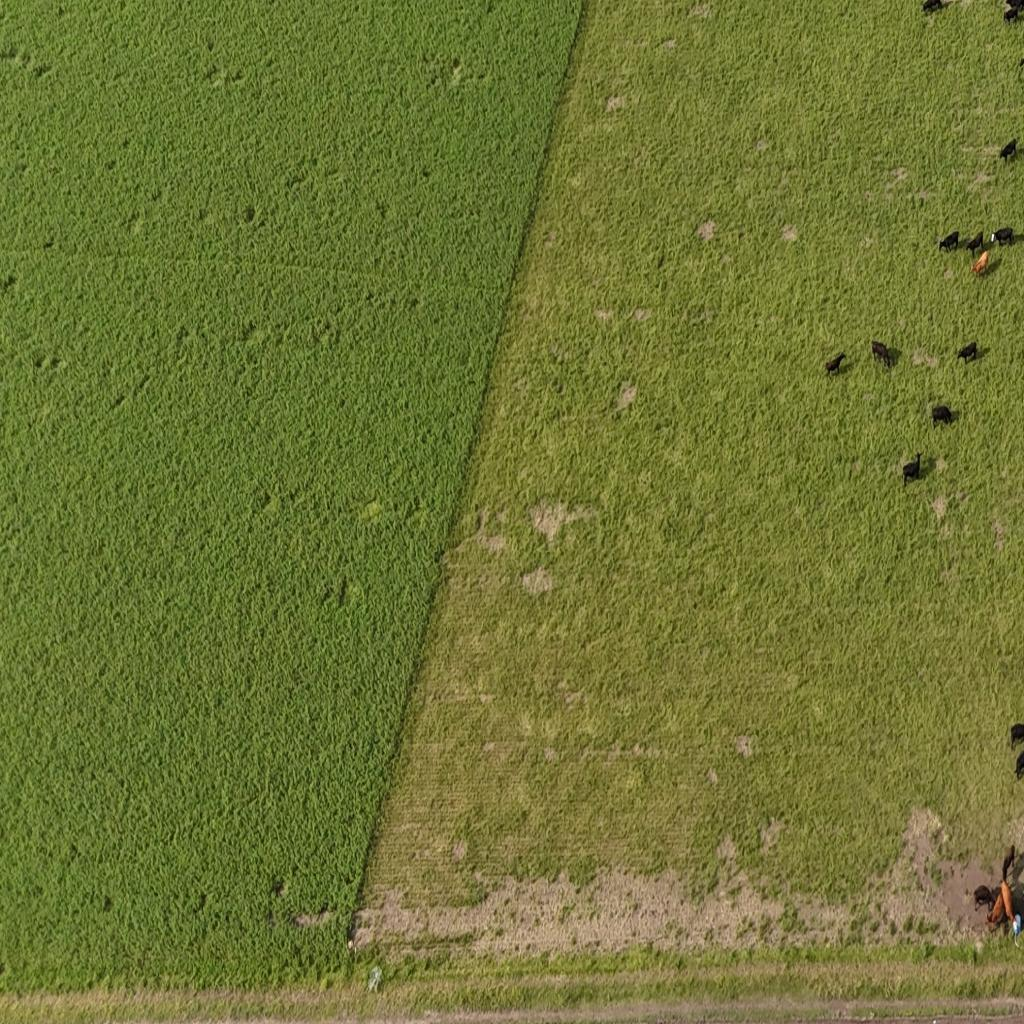cow: (1000, 877, 1022, 934), (1000, 843, 1020, 883), (990, 892, 1004, 940), (872, 339, 894, 369), (902, 454, 922, 486), (973, 884, 995, 912), (1002, 0, 1022, 26), (931, 404, 953, 427), (966, 230, 984, 257), (992, 226, 1014, 248), (825, 353, 845, 377), (970, 250, 988, 276), (1008, 720, 1024, 749), (957, 343, 978, 364), (938, 232, 958, 254), (999, 140, 1017, 164), (922, 0, 945, 15), (1014, 748, 1024, 779)
